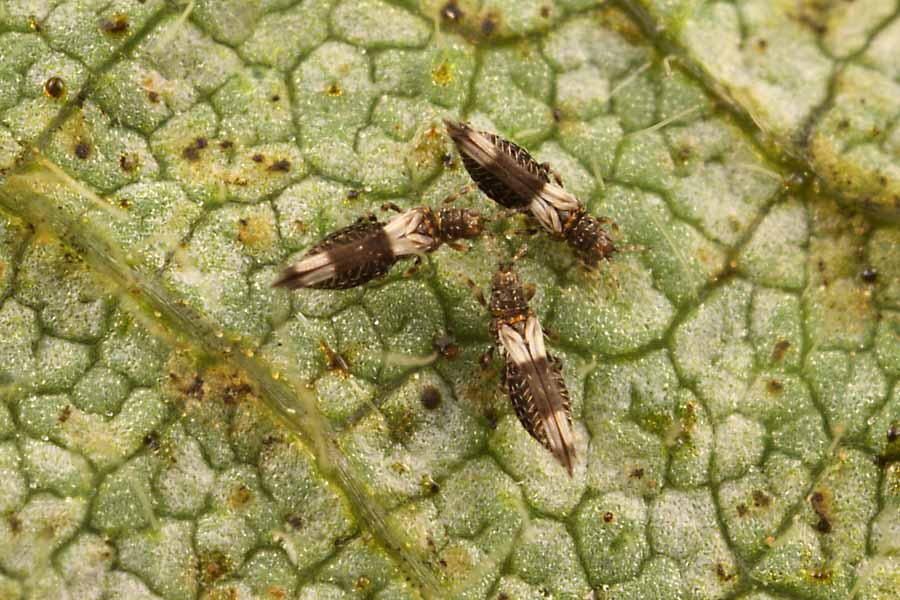tiny_pests: (429, 94, 637, 276), (214, 195, 487, 315), (459, 249, 597, 482)
